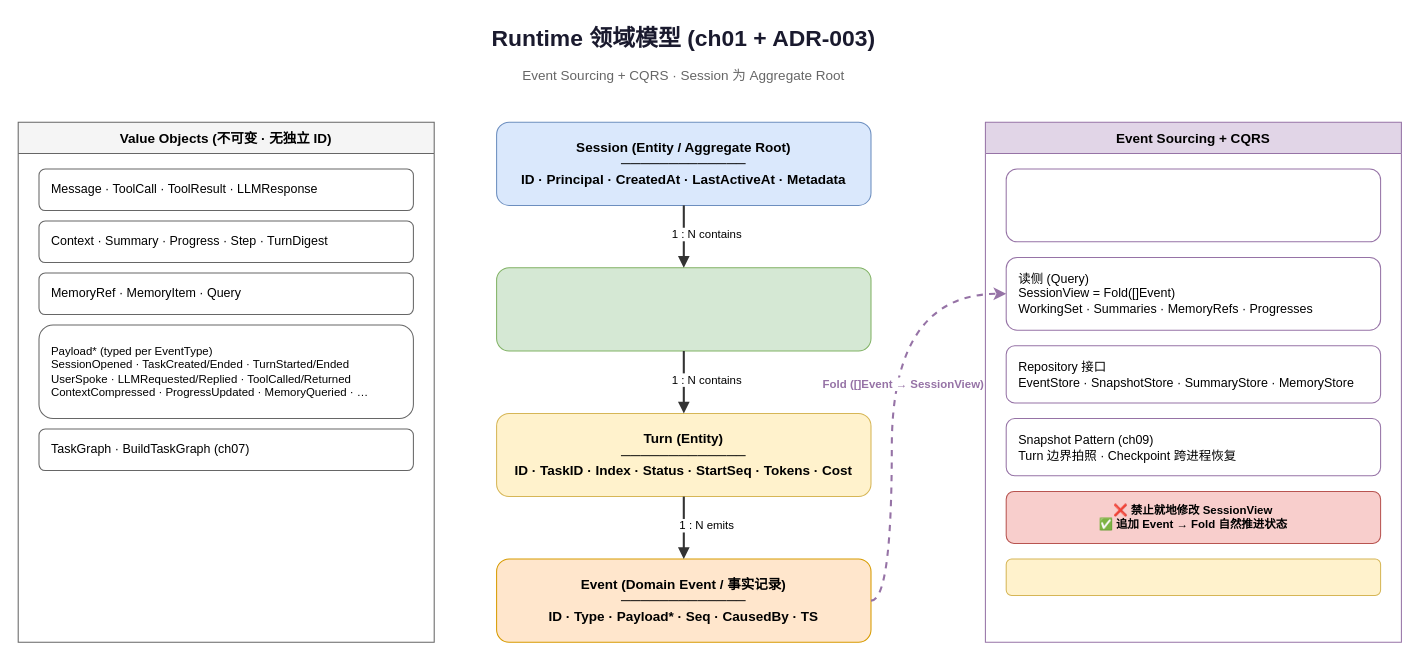
This 1420x660 diagram has some shape labels left out. Each missing label, with the centre of its shape:
"Task (Entity) ───────────── ID · SessionID · ParentID · Goal · Status · Budget" belongs at pixel 683 309.
"代码: runtime-go/domain/ · runtime-rs/src/domain/" belongs at pixel 1193 576.
"写侧 (Command) EventStore.Append + State.Apply 约束 C1: 单向 · C2: 确定性 Fold" belongs at pixel 1193 205.
